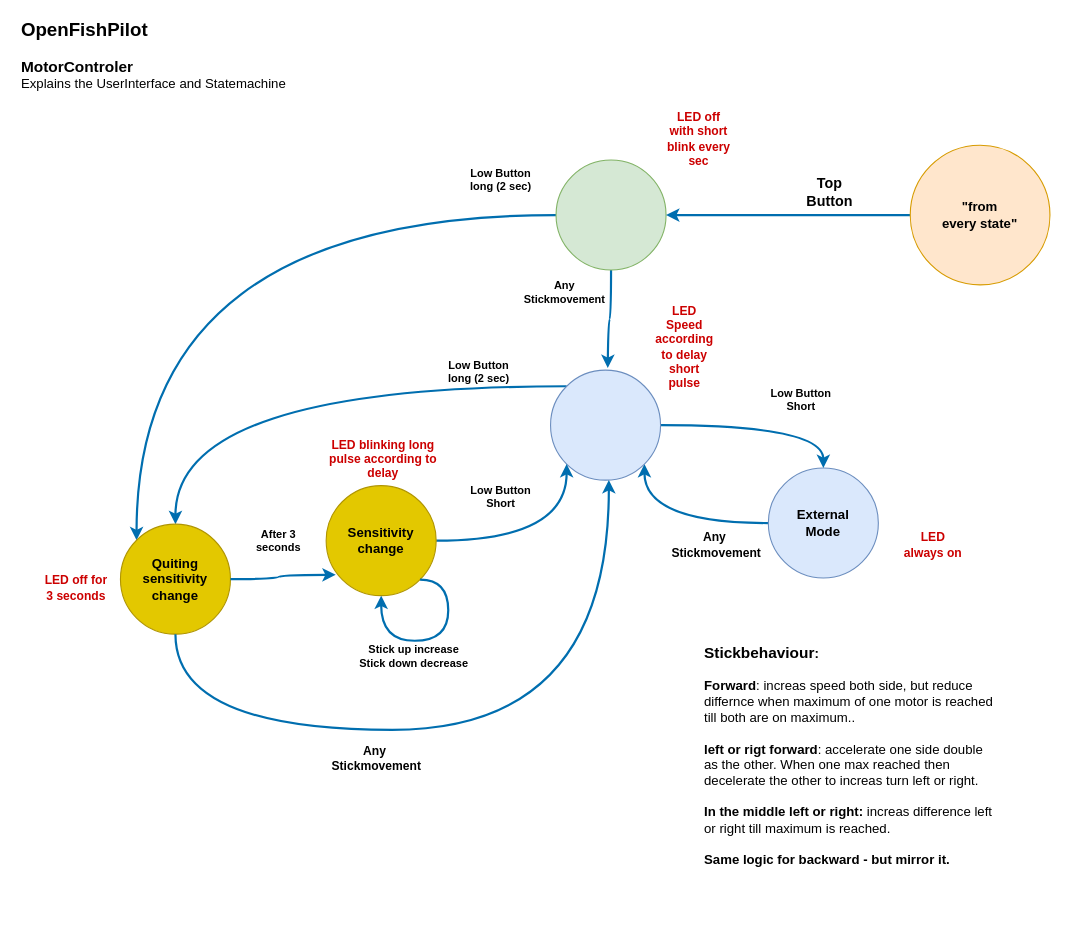
This 1069x934 diagram has some shape labels left out. The shapes that lost their labels are listed below. From the top down, each one's centre as x and y in pixels, then its label:
At (610,214): "Stop".
At (605,424): "Manual Mode".
